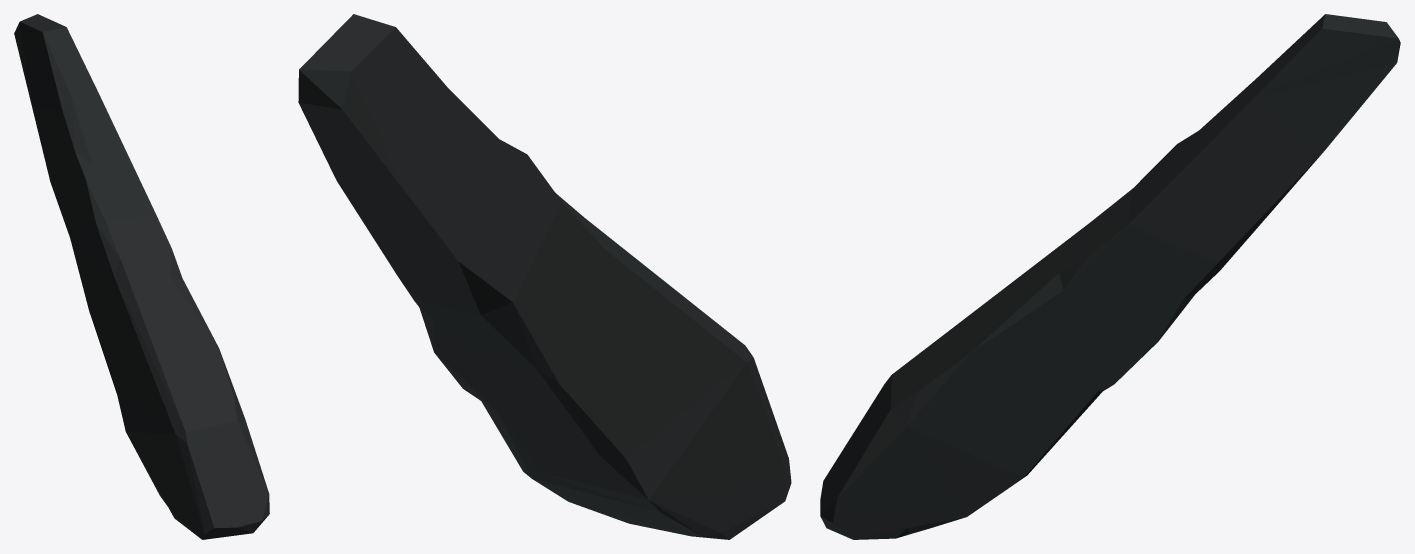
File: Portal_03_Fragment_D.FBX
3 views of the same model, side by side, from view 1: azimuth 30°, elevation 25°; view 2: azimuth 150°, elevation 25°; view 3: azimuth 270°, elevation 25° (orthographic). The views are drawn at different scales.
Parts seen in each view (by area): view 1: Portal_03_Fragment_D; view 2: Portal_03_Fragment_D; view 3: Portal_03_Fragment_D.
Part boxes in pixels (x1,y1,x2,y2): Portal_03_Fragment_D: [14, 14, 269, 539]; Portal_03_Fragment_D: [298, 14, 791, 539]; Portal_03_Fragment_D: [820, 14, 1400, 539].
Size of the model in its own units: 0.3806 by 1.91 by 2.02.
